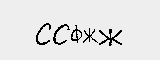А: (100, 21, 123, 37)
Г: (123, 22, 136, 37)
У: (22, 23, 39, 39)
Ш: (72, 21, 100, 37)
Я: (55, 21, 72, 39)
Ғ: (39, 24, 56, 39)
